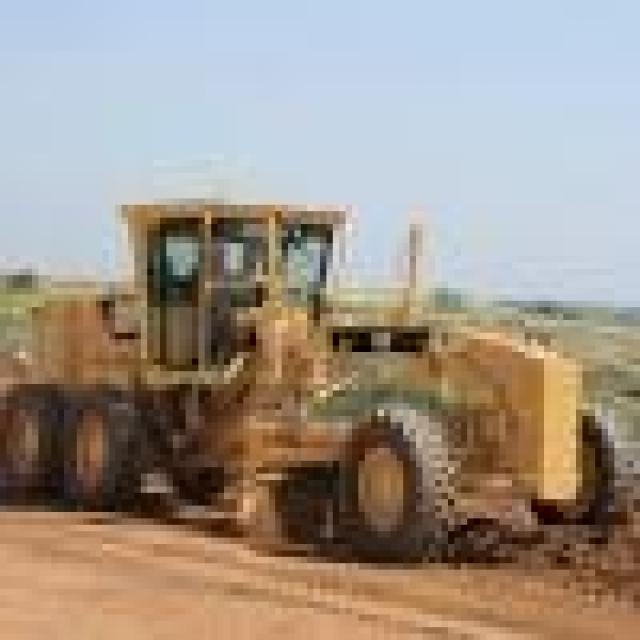Grader: (0, 122, 634, 582)
